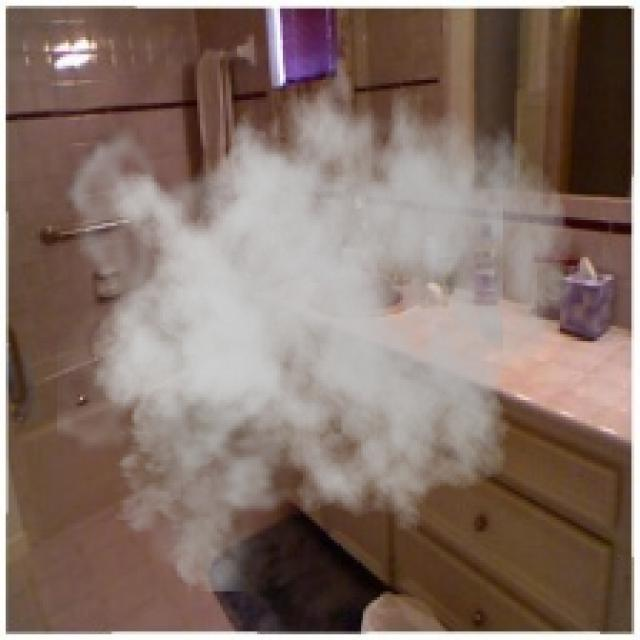smoke: (57, 34, 574, 592)
